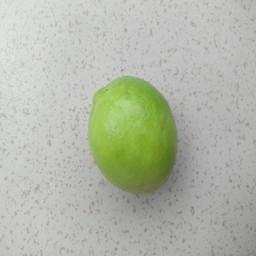Good_lime: (86, 75, 180, 192)
